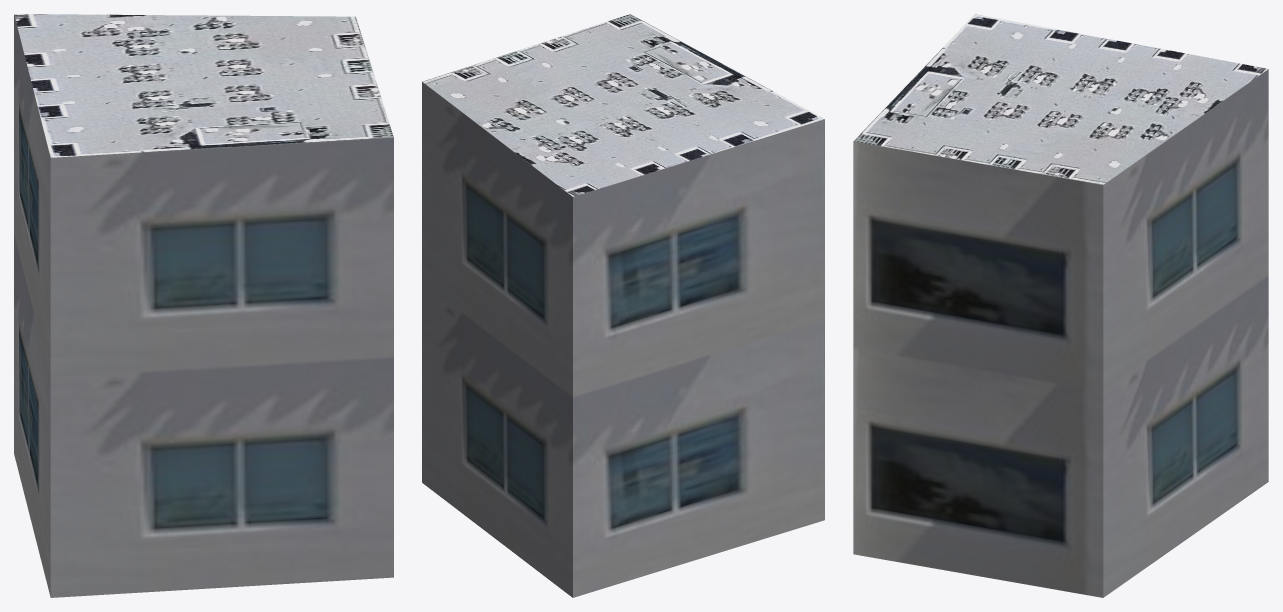
Rendered from ResTex__2062.fbx.
3 views of the same model, side by side, from view 1: azimuth 30°, elevation 25°; view 2: azimuth 150°, elevation 25°; view 3: azimuth 270°, elevation 25° (orthographic). The views are drawn at different scales.
Parts seen in each view (by area): view 1: CityEngineMaterial_10_m, CityEngineMaterial_m; view 2: CityEngineMaterial_10_m, CityEngineMaterial_m; view 3: CityEngineMaterial_10_m, CityEngineMaterial_m.
Part boxes in pixels (x1=…): CityEngineMaterial_10_m: x1=14, y1=14, x2=393, y2=597; CityEngineMaterial_m: x1=14, y1=14, x2=393, y2=157; CityEngineMaterial_10_m: x1=422, y1=82, x2=824, y2=597; CityEngineMaterial_m: x1=422, y1=14, x2=824, y2=196; CityEngineMaterial_10_m: x1=853, y1=69, x2=1268, y2=597; CityEngineMaterial_m: x1=853, y1=14, x2=1267, y2=184.
Bounding box in the file's own units: 5.33 × 6 × 5.47.
Materials: 2 (2 with a texture image).
